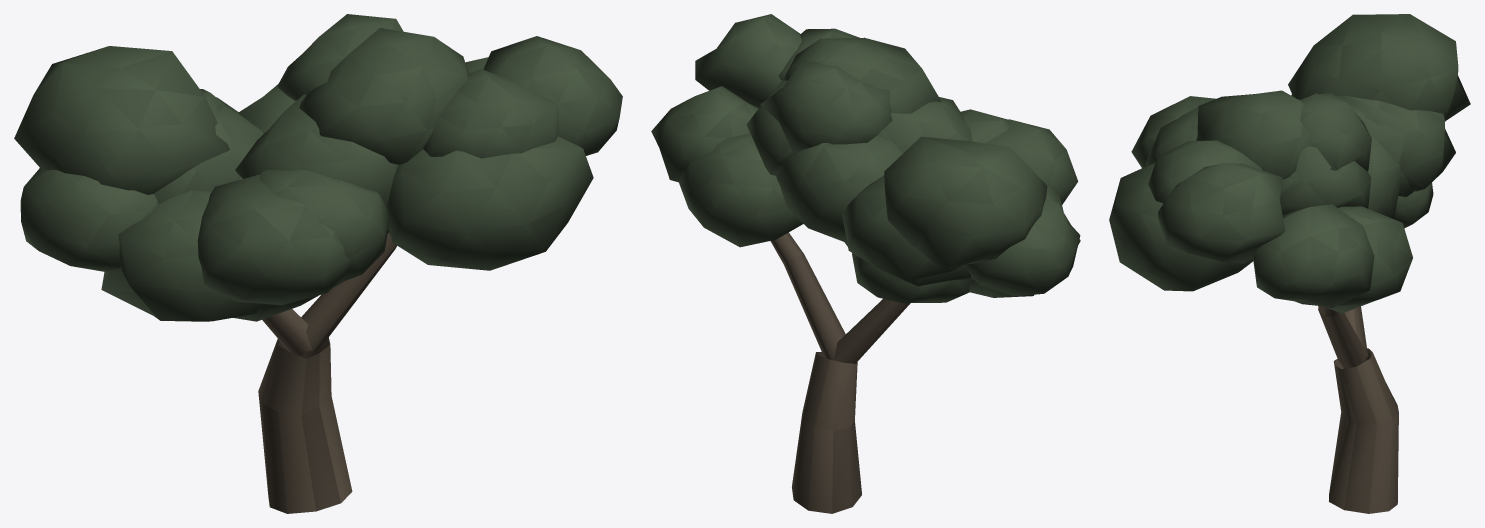
The model's file is ulivo-3.glb.
The picture shows the model from 3 angles, left to right: view 1: azimuth 30°, elevation 25°; view 2: azimuth 150°, elevation 25°; view 3: azimuth 270°, elevation 25°; orthographic projection. The views are drawn at different scales.
Visible parts, largest first — view 1: ulivo-3-foglie, ulivo-3-corteccia; view 2: ulivo-3-foglie, ulivo-3-corteccia; view 3: ulivo-3-foglie, ulivo-3-corteccia.
Part boxes in pixels (<box>): ulivo-3-foglie: <box>14,14,622,321</box>; ulivo-3-corteccia: <box>258,232,396,513</box>; ulivo-3-foglie: <box>651,14,1080,303</box>; ulivo-3-corteccia: <box>770,232,910,513</box>; ulivo-3-foglie: <box>1109,14,1470,313</box>; ulivo-3-corteccia: <box>1318,306,1398,513</box>.
Size of the model in its own units: 4.8 by 4.42 by 3.44.
